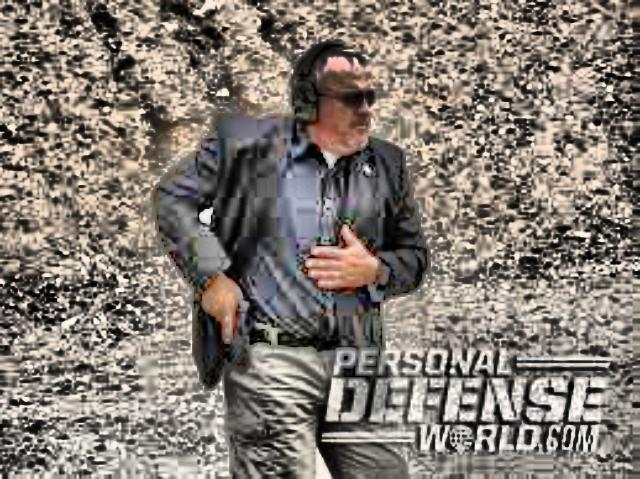pistol: (193, 294, 249, 374)
